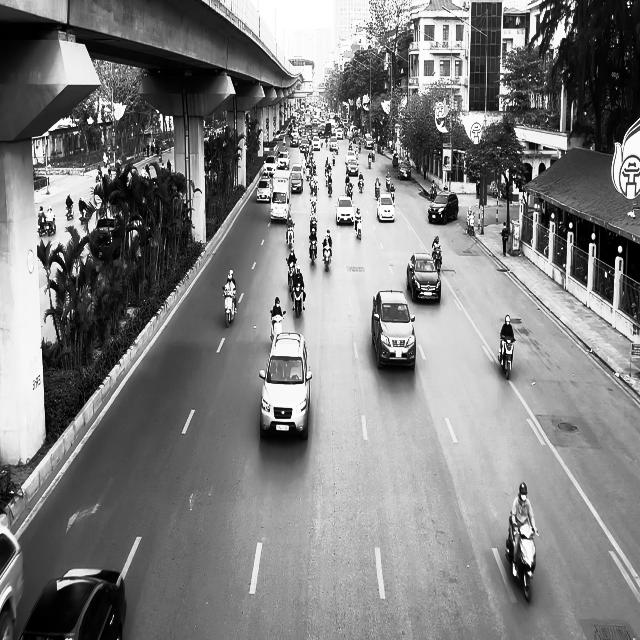car: (19, 567, 127, 640), (260, 332, 312, 441), (372, 288, 416, 369), (0, 525, 25, 639), (406, 252, 442, 303), (428, 192, 458, 224), (270, 189, 289, 222), (335, 196, 355, 224), (377, 193, 395, 222), (398, 160, 412, 180)
motorbike: (506, 516, 538, 602), (498, 337, 516, 379), (222, 287, 237, 328), (270, 309, 286, 342), (292, 283, 306, 317), (309, 236, 318, 265), (432, 246, 442, 272), (323, 244, 332, 272), (354, 217, 362, 239)
